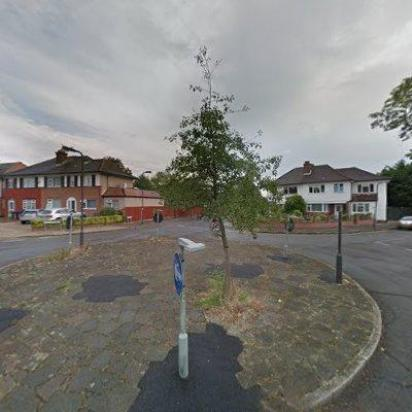stationary-car-offstreet: (29, 206, 83, 224), (18, 208, 40, 226)
stationary-car-onstreet: (397, 214, 411, 230)
